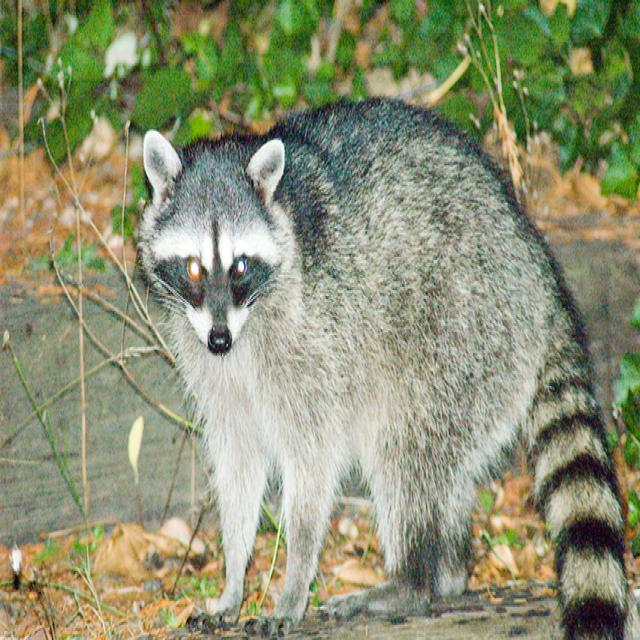Raccoon: (136, 97, 624, 640)
